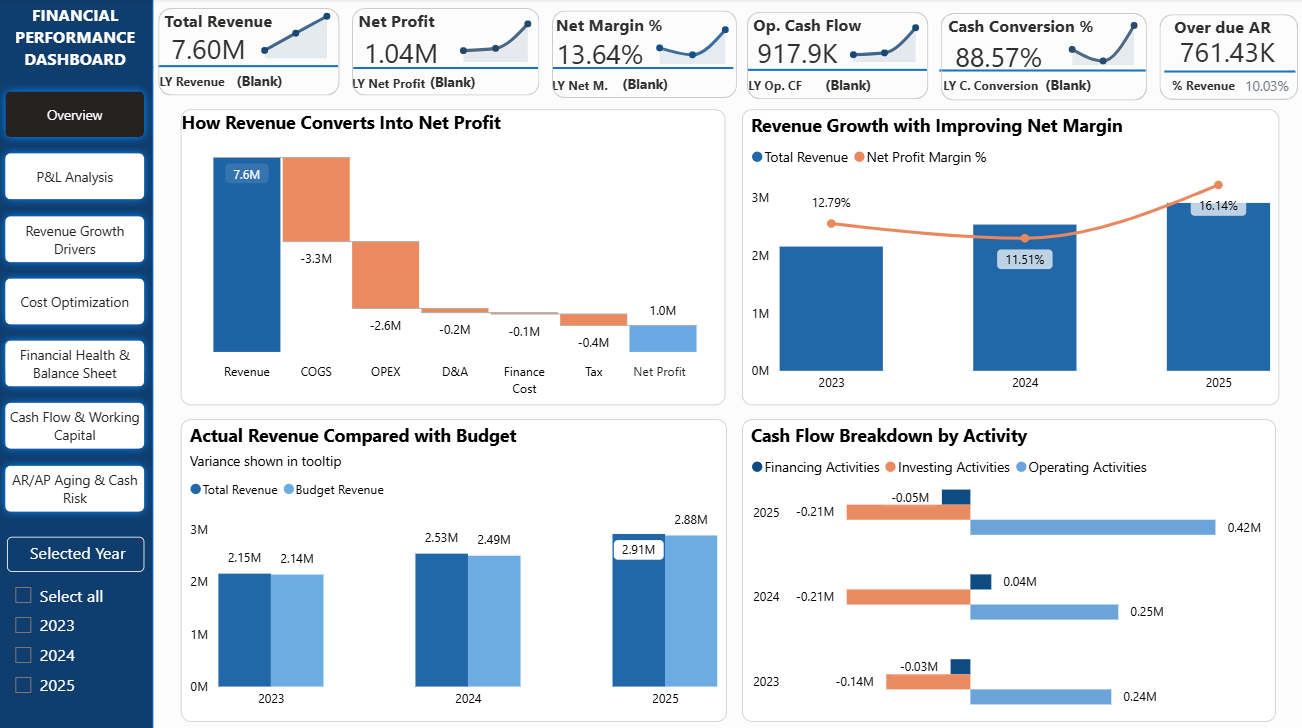

What the dashboard file says about the page in this screenshot:
{"tool":"powerbi","page":{"name":"Overview","canvas":[1280,720],"ordinal":0},"visuals":[{"type":"shape","box":[0,0,152.9,720.2],"z":0,"group":"g8"},{"type":"group","id":"g1","title":"Group 8","box":[157.7,0,178.5,102.7],"z":0},{"type":"textbox","box":[0,0,152.9,83.2],"z":1000,"group":"g8"},{"type":"group","id":"g2","title":"Group 8","box":[346.2,6.1,184.3,93],"z":1000},{"type":"card","fields":{"Values":["_Measures.Total Revenue"]},"box":[157.8,34.3,94.2,33.3],"z":1000,"group":"g9"},{"type":"card","fields":{"Values":["_Measures.Operating Cash Flow"]},"box":[733.7,37.7,94.2,33.3],"z":1000,"group":"g10"},{"type":"card","fields":{"Values":["_Measures.Net Profit"]},"box":[346.2,38.6,93.9,30.7],"z":1000,"group":"g11"},{"type":"card","fields":{"Values":["_Measures.Net Profit Margin %"]},"box":[540.5,39.8,93.9,31.1],"z":1000,"group":"g12"},{"type":"card","fields":{"Values":["_Measures.Overdue AR by Due Date"]},"box":[1136.9,39.9,128.3,29.5],"z":1000,"group":"g14"},{"type":"card","fields":{"Values":["_Measures.Cash Conversion %"]},"box":[930.2,42.4,93.9,31.1],"z":1000,"group":"g13"},{"type":"textbox","box":[158.8,6.1,152.7,38.5],"z":2000,"group":"g9"},{"type":"textbox","box":[348.6,6.1,133.3,33],"z":2000,"group":"g11"},{"type":"textbox","box":[541.1,8.7,124.7,33],"z":2000,"group":"g12"},{"type":"textbox","box":[735.1,9.2,171.2,39.1],"z":2000,"group":"g10"},{"type":"group","id":"g3","title":"Group 8","box":[921.5,9.8,205.4,91.7],"z":2000},{"type":"textbox","box":[924.8,11.4,163.9,35.5],"z":2000,"group":"g13"},{"type":"textbox","box":[1138.2,12.8,116.1,37.8],"z":2000,"group":"g14"},{"type":"pageNavigator","box":[0,83.2,152.9,431.7],"z":2000,"group":"g8"},{"type":"group","id":"g4","title":"Group 8","box":[540.5,6.8,183.1,97.5],"z":3000},{"type":"textbox","box":[9.8,527,134.5,34.2],"z":3000,"group":"g8"},{"type":"lineChart","fields":{"Category":["Dim_Date.Year"],"Y":["_Measures.Total Revenue"]},"box":[246.9,0,85.9,59.2],"z":4000,"group":"g9"},{"type":"group","id":"g5","title":"Group 8","box":[733.6,3.4,178,101],"z":4000},{"type":"lineChart","fields":{"Category":["Dim_Date.Year"],"Y":["_Measures.Operating Cash Flow"]},"box":[822.8,3.4,85.9,59.2],"z":4000,"group":"g10"},{"type":"lineChart","fields":{"Category":["Dim_Date.Year"],"Y":["_Measures.Net Profit Margin %"]},"box":[633.7,6.8,89.3,57.5],"z":4000,"group":"g12"},{"type":"lineChart","fields":{"Category":["Dim_Date.Year"],"Y":["_Measures.Net Profit"]},"box":[441.1,7.4,88,55.5],"z":4000,"group":"g11"},{"type":"lineChart","fields":{"Category":["Dim_Date.Year"],"Y":["_Measures.Cash Conversion %"]},"box":[1036.7,9.8,85.6,56.3],"z":4000,"group":"g13"},{"type":"slicer","fields":{"Values":["Dim_Date.Year"]},"box":[9.8,569.8,134.5,150.4],"z":4000,"group":"g8"},{"type":"lineClusteredColumnComboChart","title":"Revenue Growth with Improving Net Margin","fields":{"Category":["Dim_Date.Year-Month.Variation.Date Hierarchy.Year","Dim_Date.Year-Month.Variation.Date Hierarchy.Quarter","Dim_Date.Year-Month.Variation.Date Hierarchy.Month"],"Y":["_Measures.Total Revenue"],"Y2":["_Measures.Net Profit Margin %"]},"box":[728.8,108.8,525.8,289.8],"z":5000},{"type":"textbox","box":[158.8,67.4,102.9,33.3],"z":6000,"group":"g9"},{"type":"textbox","box":[347.1,68.5,114.9,30.6],"z":6000,"group":"g11"},{"type":"textbox","box":[542.8,70.1,84.4,34.2],"z":6000,"group":"g12"},{"type":"textbox","box":[734.7,70.8,102.9,33.3],"z":6000,"group":"g10"},{"type":"textbox","box":[1148.8,71.1,100,38.3],"z":6000,"group":"g14"},{"type":"textbox","box":[924.7,71.3,97.8,30.6],"z":6000,"group":"g13"},{"type":"clusteredColumnChart","title":"Actual Revenue Compared with Budget","fields":{"Category":["Dim_Date.Year-Month.Variation.Date Hierarchy.Year","Dim_Date.Year-Month.Variation.Date Hierarchy.Quarter","Dim_Date.Year-Month.Variation.Date Hierarchy.Month"],"Y":["_Measures.Total Revenue","_Measures.Budget Revenue"]},"box":[179.8,412.1,534.4,295.9],"z":6000},{"type":"clusteredBarChart","title":"Cash Flow Breakdown by Activity","fields":{"Category":["Dim_Date.Year-Month.Variation.Date Hierarchy.Year","Dim_Date.Year-Month.Variation.Date Hierarchy.Quarter","Dim_Date.Year-Month.Variation.Date Hierarchy.Month"],"Y":["_Measures.Net Cash Flow from Financing Activities","_Measures.Net Cash Flow from Investing Activities","_Measures.Net Cash Flow from Operating Activities"]},"box":[728.8,412.1,522.1,295.9],"z":7000},{"type":"group","id":"g6","title":"Group 8","box":[1136.9,12.8,137,96.6],"z":8000},{"type":"card","fields":{"Values":["_Measures.LY Revenue"]},"box":[222,66.5,68.3,28.8],"z":8000,"group":"g9"},{"type":"card","fields":{"Values":["_Measures.LY Net Profit Margin %"]},"box":[605.5,67.6,57.5,28.1],"z":8000,"group":"g12"},{"type":"card","fields":{"Values":["_Measures.LY Gross Margin %"]},"box":[410.5,67.7,69.7,27.8],"z":8000,"group":"g11"},{"type":"card","fields":{"Values":["_Measures.LY Operating Cash Flow"]},"box":[797.9,69.9,68.3,28.8],"z":8000,"group":"g10"},{"type":"card","fields":{"Values":["_Measures.LY EBITDA Margin %"]},"box":[1021.8,70.9,51.4,26.9],"z":8000,"group":"g13"},{"type":"card","fields":{"Values":["_Measures.Revenue LY Display"]},"box":[275,66.6,61.1,35.5],"z":9000,"group":"g1"},{"type":"card","fields":{"Values":["_Measures.Net Profit Margin Display"]},"box":[658.1,67.6,58.7,34.2],"z":9000,"group":"g4"},{"type":"card","fields":{"Values":["_Measures.Net Profit Display"]},"box":[468,68.9,59.9,29],"z":9000,"group":"g2"},{"type":"card","fields":{"Values":["_Measures.Operating Cash Flow Display"]},"box":[850.9,70,61.1,35.5],"z":9000,"group":"g5"},{"type":"card","fields":{"Values":["_Measures.EBITDA Margin Display"]},"box":[1068.2,72.2,58.7,29.3],"z":9000,"group":"g3"},{"type":"card","fields":{"Values":["_Measures.Overdue AR % of Revenue"]},"box":[1205.4,76.7,68.5,24.5],"z":9000,"group":"g6"},{"type":"group","id":"g7","title":"Group 2","box":[179.8,108.8,533.2,289.8],"z":9000},{"type":"waterfallChart","title":"How Revenue Converts Into Net Profit","fields":{"Category":["Profitability_Bridge.Step"],"Y":["_Measures.Profitability Bridge Value"]},"box":[179.8,108.8,533.2,289.8],"z":9000,"group":"g7"},{"type":"group","id":"g8","title":"Group 1","box":[0,0,152.9,720.2],"z":10000},{"type":"shape","box":[348.2,59.5,181,17.1],"z":10000,"group":"g11"},{"type":"shape","box":[157.7,60.5,176.1,13.5],"z":10000,"group":"g9"},{"type":"shape","box":[543.2,60.5,177.3,14.7],"z":10000,"group":"g12"},{"type":"shape","box":[921.5,63.6,201.8,14.7],"z":10000,"group":"g13"},{"type":"shape","box":[733.6,63.9,176.1,13.5],"z":10000,"group":"g10"},{"type":"shape","box":[1141.9,67,128.3,11.8],"z":10000,"group":"g14"},{"type":"textbox","box":[617.6,350.9,80.7,30.6],"z":10002,"group":"g7"},{"type":"shape","box":[347.1,9.8,183.4,85.6],"z":11000,"group":"g11"},{"type":"shape","box":[157.7,10.3,177.3,85.6],"z":11000,"group":"g9"},{"type":"shape","box":[542.5,11.2,181,85.6],"z":11000,"group":"g12"},{"type":"shape","box":[733.6,13.7,177.3,85.6],"z":11000,"group":"g10"},{"type":"shape","box":[922.7,14.7,201.8,85.6],"z":11000,"group":"g13"},{"type":"shape","box":[1137,16.2,135.6,83.8],"z":11000,"group":"g14"},{"type":"group","id":"g9","title":"Group 3","box":[157.7,0,177.3,100.7],"z":11004,"group":"g1"},{"type":"group","id":"g10","title":"Group 3","box":[733.6,3.4,177.3,100.7],"z":11004,"group":"g5"},{"type":"group","id":"g11","title":"Group 3","box":[346.2,6.1,184.3,93],"z":11004,"group":"g2"},{"type":"group","id":"g12","title":"Group 3","box":[540.5,6.8,183,97.5],"z":11004,"group":"g4"},{"type":"group","id":"g13","title":"Group 3","box":[921.5,9.8,202.9,92.1],"z":11004,"group":"g3"},{"type":"group","id":"g14","title":"Group 3","box":[1136.9,12.8,135.7,96.6],"z":11004,"group":"g6"}]}

Visuals, with their boxes in screenshot pixels (x1, y1, x2, y2), scaled from the page's 1280x720 canvas onto the 1302x728 screenshot:
shape: <bbox>0, 0, 156, 727</bbox>
"Group 8" group: <bbox>160, 0, 342, 104</bbox>
textbox: <bbox>0, 0, 156, 84</bbox>
"Group 8" group: <bbox>352, 6, 540, 100</bbox>
card - _Measures.Total Revenue: <bbox>161, 35, 256, 68</bbox>
card - _Measures.Operating Cash Flow: <bbox>746, 38, 842, 72</bbox>
card - _Measures.Net Profit: <bbox>352, 39, 448, 70</bbox>
card - _Measures.Net Profit Margin %: <bbox>550, 40, 645, 72</bbox>
card - _Measures.Overdue AR by Due Date: <bbox>1156, 40, 1287, 70</bbox>
card - _Measures.Cash Conversion %: <bbox>946, 43, 1042, 74</bbox>
textbox: <bbox>162, 6, 317, 45</bbox>
textbox: <bbox>355, 6, 490, 40</bbox>
textbox: <bbox>550, 9, 677, 42</bbox>
textbox: <bbox>748, 9, 922, 49</bbox>
"Group 8" group: <bbox>937, 10, 1146, 103</bbox>
textbox: <bbox>941, 12, 1107, 47</bbox>
textbox: <bbox>1158, 13, 1276, 51</bbox>
pageNavigator: <bbox>0, 84, 156, 521</bbox>
"Group 8" group: <bbox>550, 7, 736, 105</bbox>
textbox: <bbox>10, 533, 147, 567</bbox>
lineChart - Dim_Date.Year x _Measures.Total Revenue: <bbox>251, 0, 339, 60</bbox>
"Group 8" group: <bbox>746, 3, 927, 106</bbox>
lineChart - Dim_Date.Year x _Measures.Operating Cash Flow: <bbox>837, 3, 924, 63</bbox>
lineChart - Dim_Date.Year x _Measures.Net Profit Margin %: <bbox>645, 7, 735, 65</bbox>
lineChart - Dim_Date.Year x _Measures.Net Profit: <bbox>449, 7, 538, 64</bbox>
lineChart - Dim_Date.Year x _Measures.Cash Conversion %: <bbox>1055, 10, 1142, 67</bbox>
slicer - Dim_Date.Year: <bbox>10, 576, 147, 727</bbox>
"Revenue Growth with Improving Net Margin" lineClusteredColumnComboChart: <bbox>741, 110, 1276, 403</bbox>
textbox: <bbox>162, 68, 266, 102</bbox>
textbox: <bbox>353, 69, 470, 100</bbox>
textbox: <bbox>552, 71, 638, 105</bbox>
textbox: <bbox>747, 72, 852, 105</bbox>
textbox: <bbox>1169, 72, 1270, 111</bbox>
textbox: <bbox>941, 72, 1040, 103</bbox>
"Actual Revenue Compared with Budget" clusteredColumnChart: <bbox>183, 417, 726, 716</bbox>
"Cash Flow Breakdown by Activity" clusteredBarChart: <bbox>741, 417, 1272, 716</bbox>
"Group 8" group: <bbox>1156, 13, 1296, 111</bbox>
card - _Measures.LY Revenue: <bbox>226, 67, 295, 96</bbox>
card - _Measures.LY Net Profit Margin %: <bbox>616, 68, 674, 97</bbox>
card - _Measures.LY Gross Margin %: <bbox>418, 68, 488, 97</bbox>
card - _Measures.LY Operating Cash Flow: <bbox>812, 71, 881, 100</bbox>
card - _Measures.LY EBITDA Margin %: <bbox>1039, 72, 1092, 99</bbox>
card - _Measures.Revenue LY Display: <bbox>280, 67, 342, 103</bbox>
card - _Measures.Net Profit Margin Display: <bbox>669, 68, 729, 103</bbox>
card - _Measures.Net Profit Display: <bbox>476, 70, 537, 99</bbox>
card - _Measures.Operating Cash Flow Display: <bbox>866, 71, 928, 107</bbox>
card - _Measures.EBITDA Margin Display: <bbox>1087, 73, 1146, 103</bbox>
card - _Measures.Overdue AR % of Revenue: <bbox>1226, 78, 1296, 102</bbox>
"Group 2" group: <bbox>183, 110, 725, 403</bbox>
"How Revenue Converts Into Net Profit" waterfallChart: <bbox>183, 110, 725, 403</bbox>
"Group 1" group: <bbox>0, 0, 156, 727</bbox>
shape: <bbox>354, 60, 538, 77</bbox>
shape: <bbox>160, 61, 340, 75</bbox>
shape: <bbox>553, 61, 733, 76</bbox>
shape: <bbox>937, 64, 1143, 79</bbox>
shape: <bbox>746, 65, 925, 78</bbox>
shape: <bbox>1162, 68, 1292, 80</bbox>
textbox: <bbox>628, 355, 710, 386</bbox>
shape: <bbox>353, 10, 540, 96</bbox>
shape: <bbox>160, 10, 341, 97</bbox>
shape: <bbox>552, 11, 736, 98</bbox>
shape: <bbox>746, 14, 927, 100</bbox>
shape: <bbox>939, 15, 1144, 101</bbox>
shape: <bbox>1157, 16, 1294, 101</bbox>
"Group 3" group: <bbox>160, 0, 341, 102</bbox>
"Group 3" group: <bbox>746, 3, 927, 105</bbox>
"Group 3" group: <bbox>352, 6, 540, 100</bbox>
"Group 3" group: <bbox>550, 7, 736, 105</bbox>
"Group 3" group: <bbox>937, 10, 1144, 103</bbox>
"Group 3" group: <bbox>1156, 13, 1294, 111</bbox>
